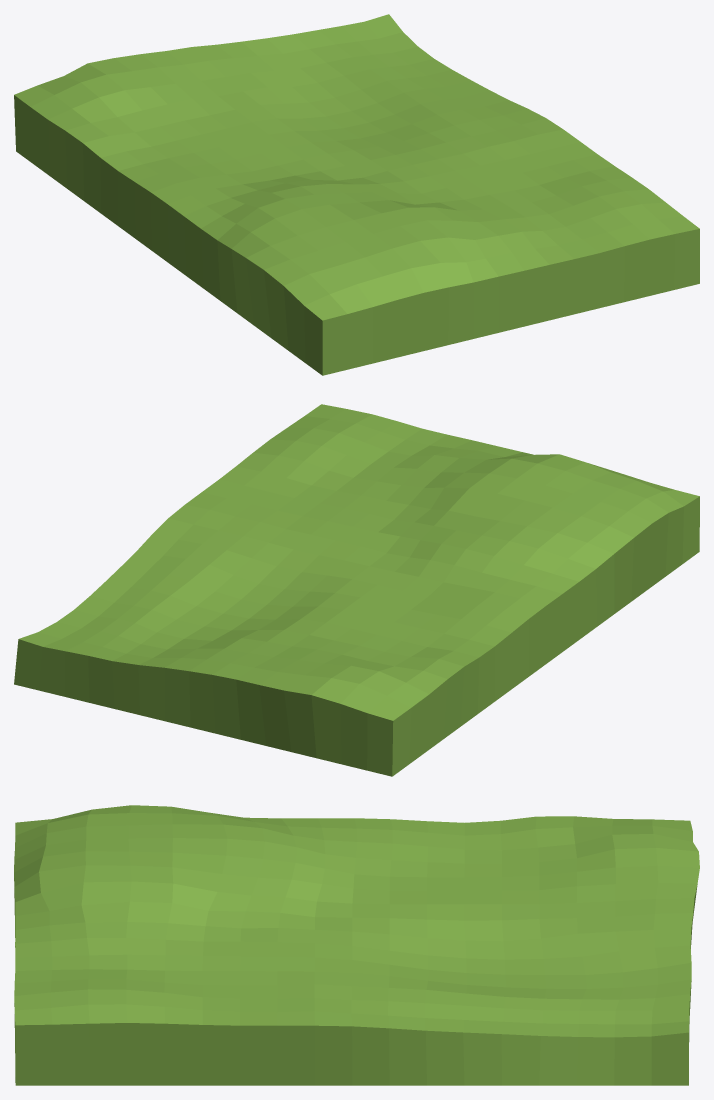
File: Ground.fbx
3 renders of one model, top to bottom at view 1: azimuth 30°, elevation 25°; view 2: azimuth 150°, elevation 25°; view 3: azimuth 270°, elevation 25°, orthographic. The views are drawn at different scales.
Parts seen in each view (by area): view 1: Cube; view 2: Cube; view 3: Cube.
Part boxes in pixels (x1,y1,x2,y2): Cube: [14, 14, 699, 375]; Cube: [14, 404, 699, 776]; Cube: [14, 805, 699, 1085].
Size of the model in its own units: 3685 by 734 by 5202.
